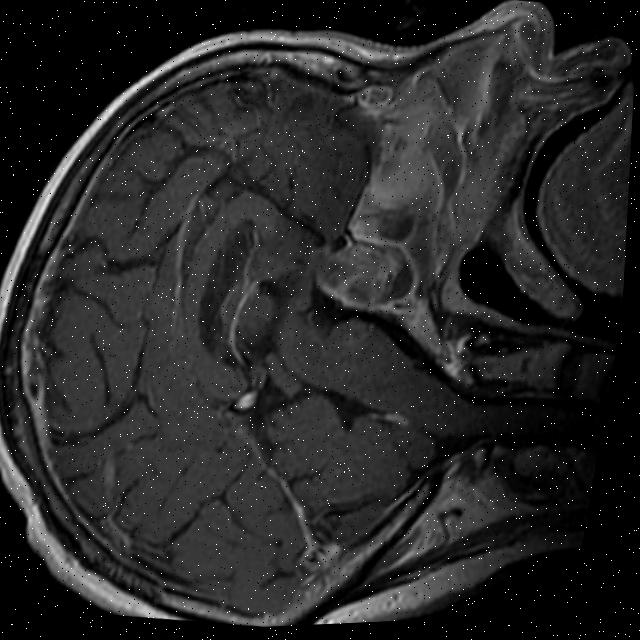Pituitary: (307, 234, 424, 319)
